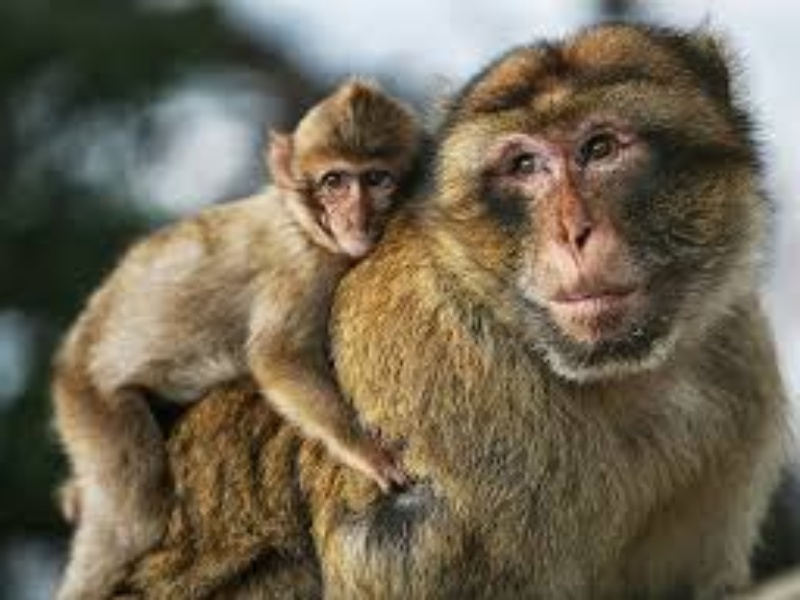monkey: (55, 27, 790, 592)
